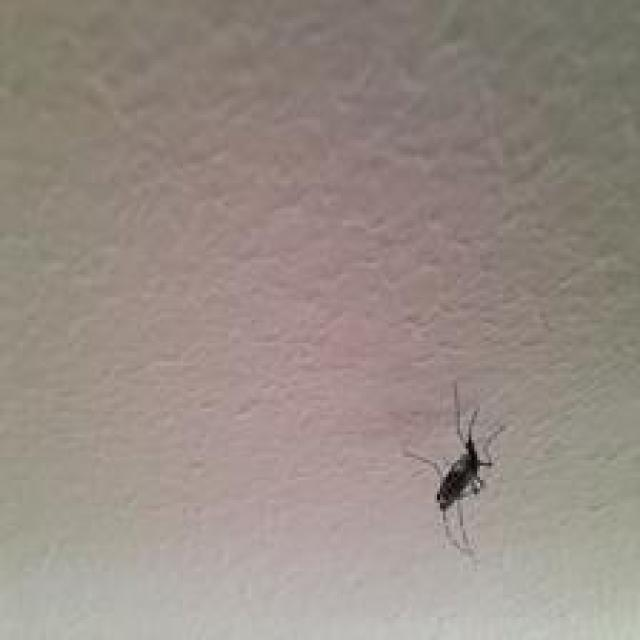Aedes albopictus: (402, 381, 507, 556)
